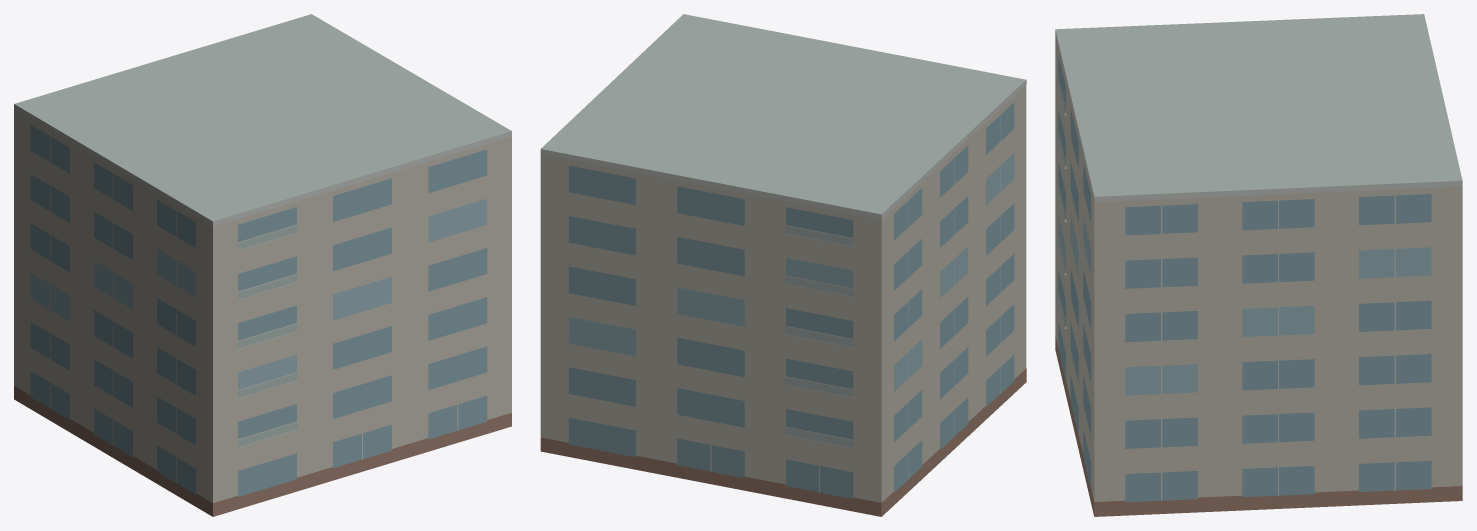
The model's file is survey-upis-32886601.glb.
3 renders of one model, left to right at view 1: azimuth 30°, elevation 25°; view 2: azimuth 150°, elevation 25°; view 3: azimuth 270°, elevation 25°, orthographic. The views are drawn at different scales.
Visible parts, largest first — view 1: survey-upis-32886601.tmp; view 2: survey-upis-32886601.tmp; view 3: survey-upis-32886601.tmp.
Part boxes in pixels (<box>): survey-upis-32886601.tmp: <box>14,14,511,516</box>; survey-upis-32886601.tmp: <box>540,14,1026,516</box>; survey-upis-32886601.tmp: <box>1055,14,1462,516</box>.
Bounding box in the file's own units: 17.03 × 13.9 × 16.04.
